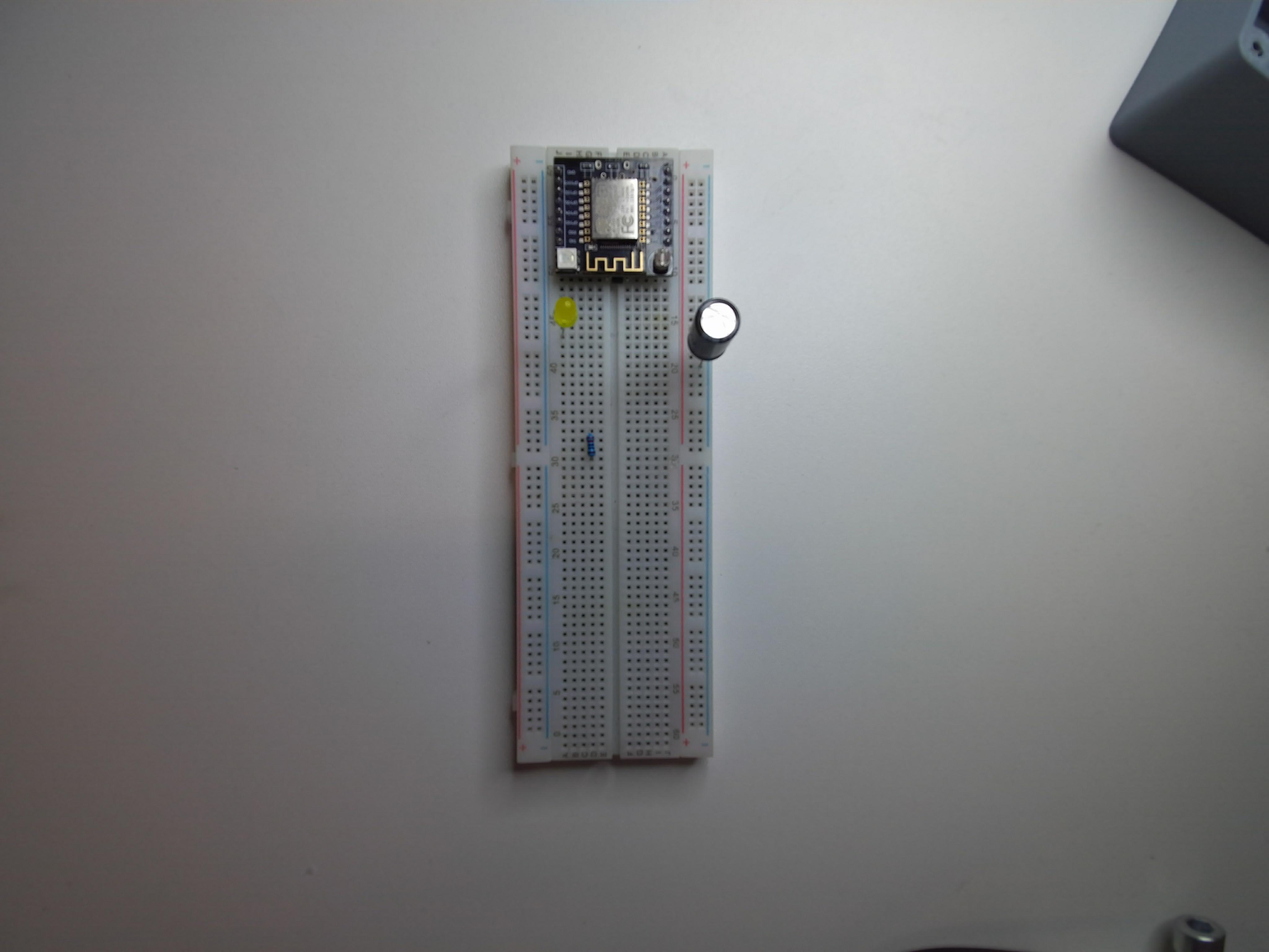base: (504, 145, 741, 777)
capacitor: (685, 295, 740, 366)
esp: (550, 152, 677, 281)
resistor-small: (582, 430, 599, 464)
yellow-led: (548, 290, 578, 334)
